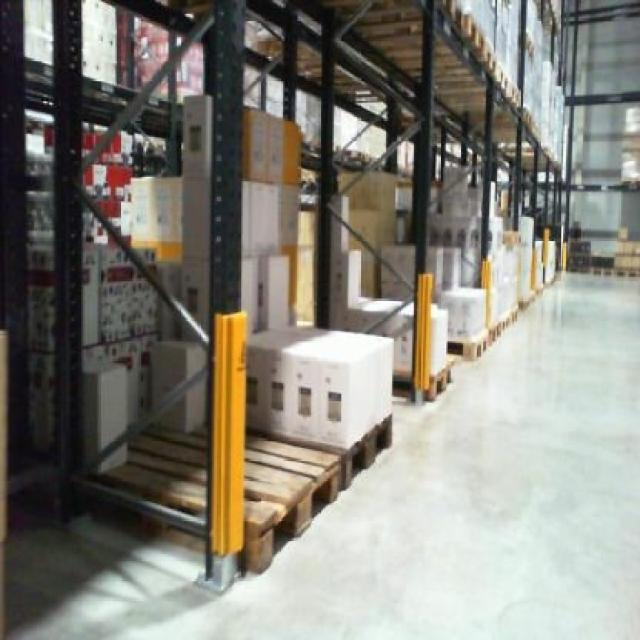floor: (11, 272, 637, 637)
pallets: (245, 326, 391, 446)
